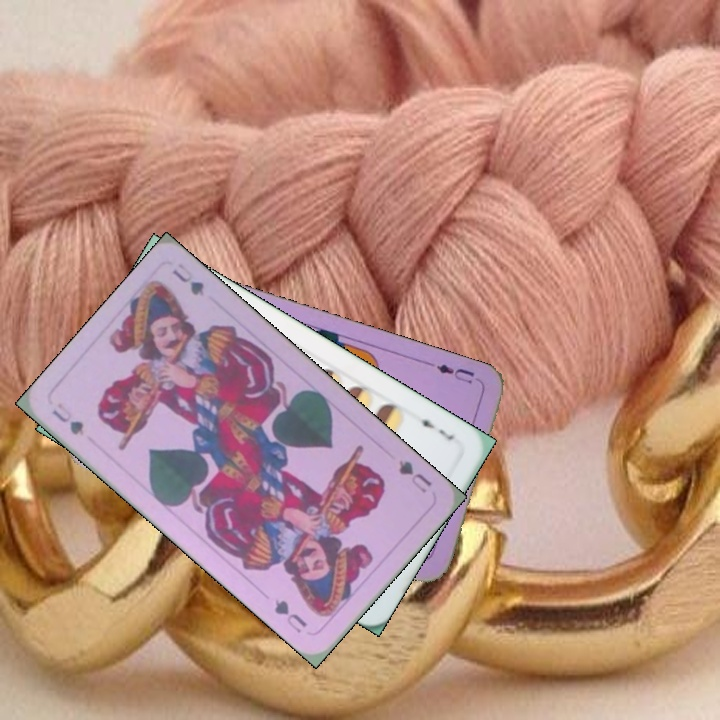E7: (412, 410, 457, 443)
EU: (432, 360, 477, 386)
GU: (394, 456, 435, 496), (48, 398, 87, 438)
